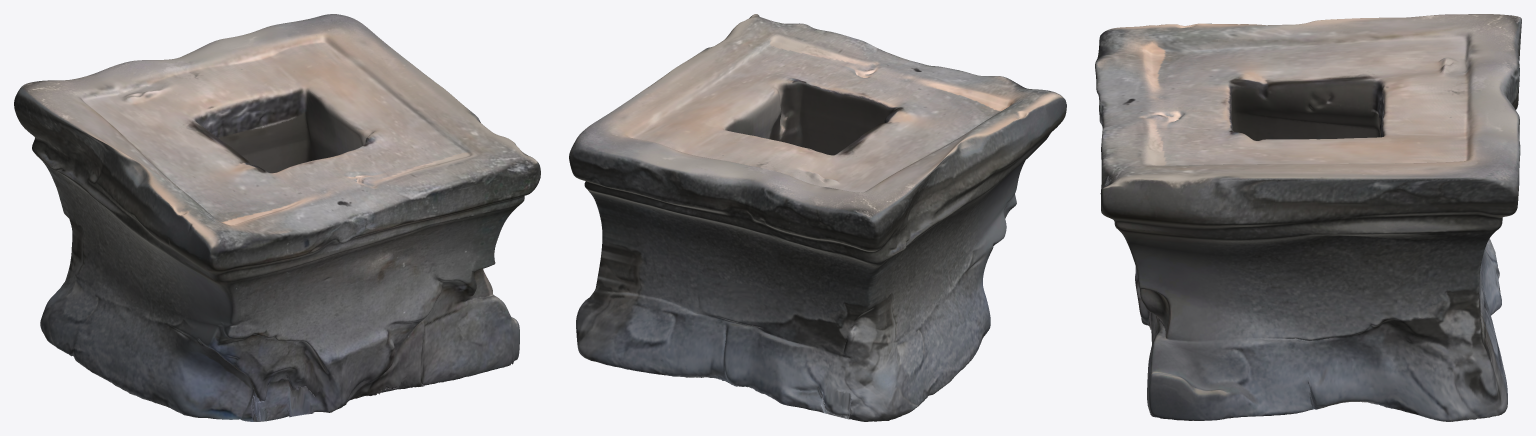
File: khmer-sandstone.glb
3 renders of one model, left to right at view 1: azimuth 30°, elevation 25°; view 2: azimuth 150°, elevation 25°; view 3: azimuth 270°, elevation 25°, orthographic. The views are drawn at different scales.
Parts seen in each view (by area): view 1: tripo_node_d9126acb-63d0-4585-89c8-acd3968a578f; view 2: tripo_node_d9126acb-63d0-4585-89c8-acd3968a578f; view 3: tripo_node_d9126acb-63d0-4585-89c8-acd3968a578f.
Part boxes in pixels (x1,y1,x2,y2): tripo_node_d9126acb-63d0-4585-89c8-acd3968a578f: [14, 14, 540, 421]; tripo_node_d9126acb-63d0-4585-89c8-acd3968a578f: [569, 14, 1066, 421]; tripo_node_d9126acb-63d0-4585-89c8-acd3968a578f: [1095, 14, 1521, 421].
Size of the model in its own units: 0.9549 by 0.6301 by 0.9923.
1 material, 1 textured.
